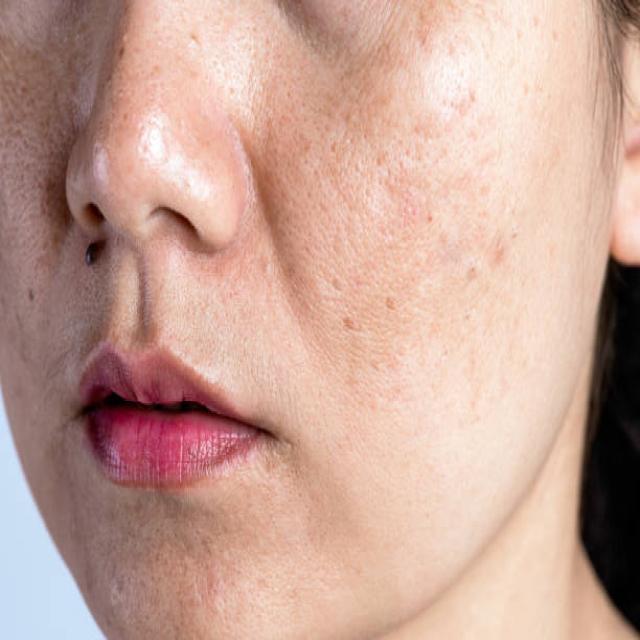dry: (330, 132, 561, 302), (18, 68, 288, 183), (104, 427, 250, 579), (23, 247, 99, 422), (370, 408, 470, 521), (226, 247, 284, 429), (268, 403, 351, 516), (352, 28, 520, 75), (462, 347, 548, 434), (528, 141, 542, 234)
